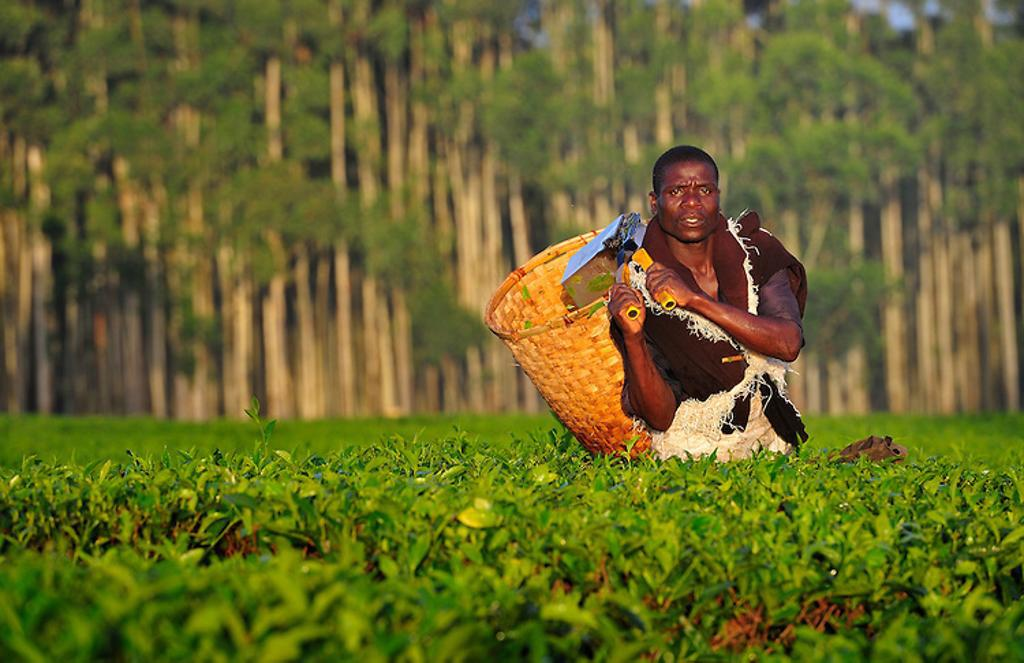face: (657, 161, 719, 243)
